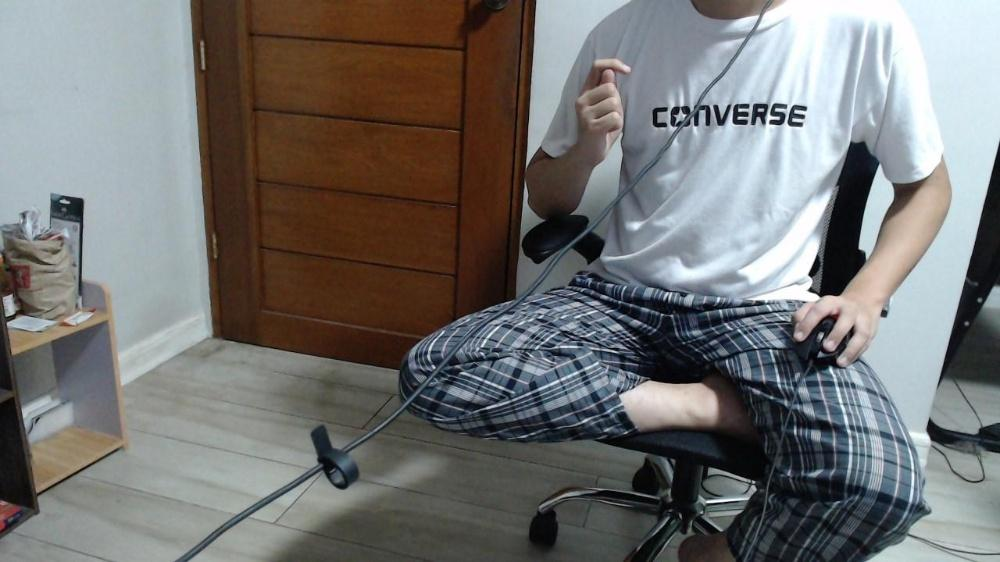t: (574, 59, 631, 163)
